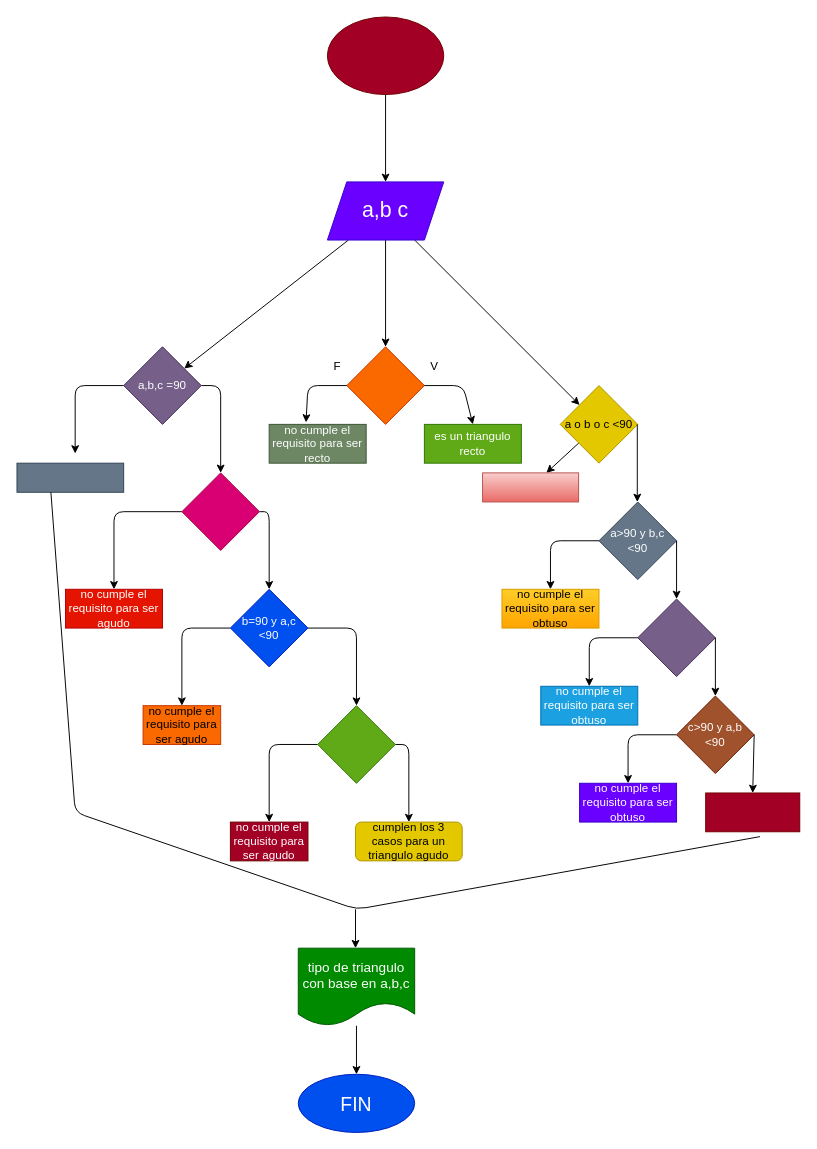
Image size: 817x1149. Some labels were removed from this diagram. Here are the shapes that lost their labels. From the top down, the centre of each, then its label:
At pixel 385 55: "INICIO".
At pixel 385 385: "a,b,c <90".
At pixel 70 477: "no puede ser triangulo agudo".
At pixel 530 487: "no puede ser triangulo obtuso".
At pixel 220 511: "a=90 y b,c <90".
At pixel 676 637: "b>90 y a,c <90".
At pixel 356 744: "c=90 y a,b <90".
At pixel 752 812: "cumplen los 3 casos para un triangulo obtuso".
